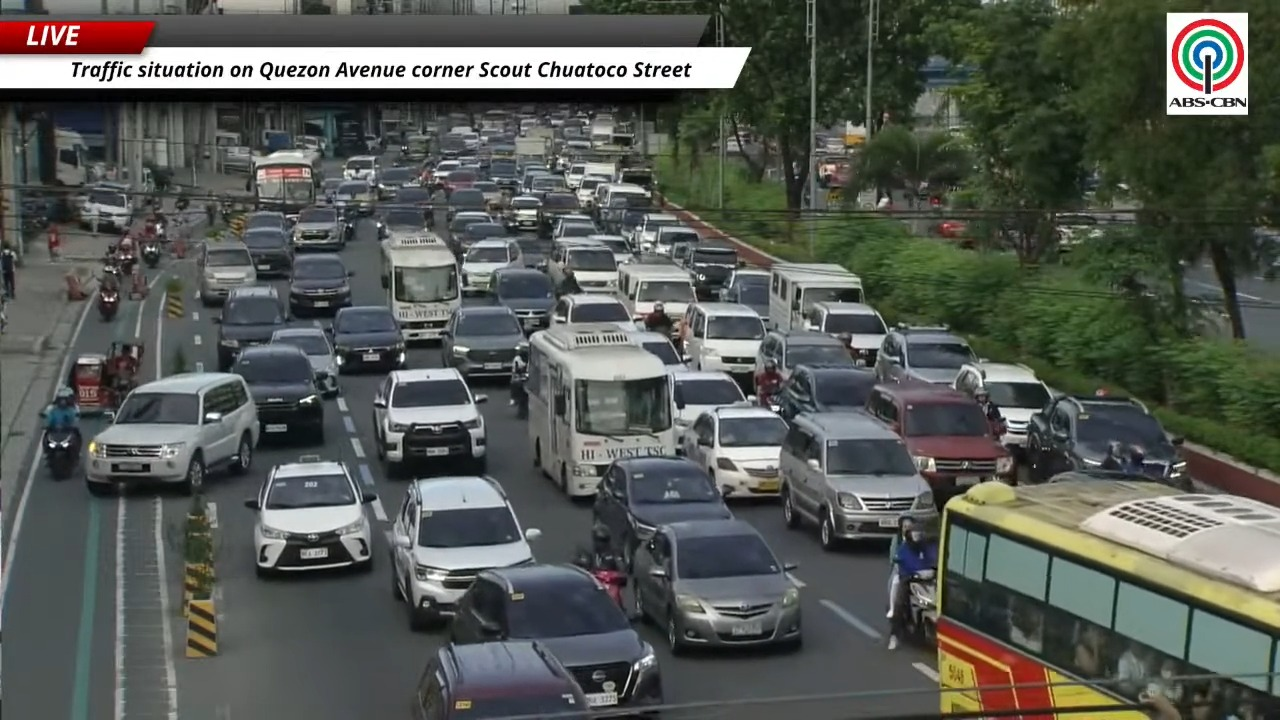bus: (936, 479, 1279, 719), (525, 323, 674, 497), (380, 230, 460, 340), (250, 150, 322, 219), (55, 128, 89, 186)
car: (450, 565, 662, 708), (390, 476, 540, 629), (634, 519, 801, 653), (780, 413, 937, 550), (86, 373, 258, 495), (1025, 395, 1192, 491), (592, 456, 732, 569), (245, 456, 376, 576), (866, 382, 1014, 488), (412, 640, 587, 719), (373, 369, 487, 473), (677, 407, 787, 497), (230, 343, 324, 443), (952, 362, 1052, 450), (214, 286, 288, 371), (874, 325, 978, 385), (684, 302, 765, 377), (441, 305, 524, 376), (774, 365, 877, 418), (326, 305, 405, 373), (805, 302, 887, 366), (753, 330, 855, 381), (270, 326, 338, 397), (670, 369, 747, 427), (491, 267, 556, 332), (546, 236, 618, 294), (289, 253, 352, 316), (196, 242, 257, 306), (461, 236, 523, 292), (551, 293, 634, 330), (685, 241, 738, 298), (632, 213, 700, 256), (1045, 469, 1181, 489), (292, 207, 353, 250), (720, 276, 770, 327), (241, 228, 292, 277), (720, 267, 770, 316), (80, 184, 133, 230), (602, 201, 654, 246), (628, 329, 686, 369), (537, 191, 579, 236), (447, 210, 491, 252), (335, 181, 375, 221), (456, 219, 508, 249), (587, 233, 634, 264), (379, 205, 428, 234), (529, 174, 575, 203), (504, 195, 541, 230), (447, 188, 487, 220), (378, 167, 418, 198), (489, 158, 519, 195), (551, 215, 597, 239), (575, 176, 609, 208), (442, 164, 478, 194), (343, 155, 379, 184), (521, 164, 549, 198), (244, 210, 289, 231), (391, 186, 432, 209), (430, 157, 461, 185), (669, 243, 696, 269), (472, 180, 501, 204), (321, 178, 342, 204)
motorcycle: (573, 547, 627, 610), (903, 570, 937, 646), (43, 429, 78, 479), (510, 373, 528, 419), (755, 381, 780, 412), (97, 286, 119, 321), (102, 257, 121, 287), (142, 241, 160, 268), (220, 201, 236, 224)
truck: (515, 137, 549, 161)
